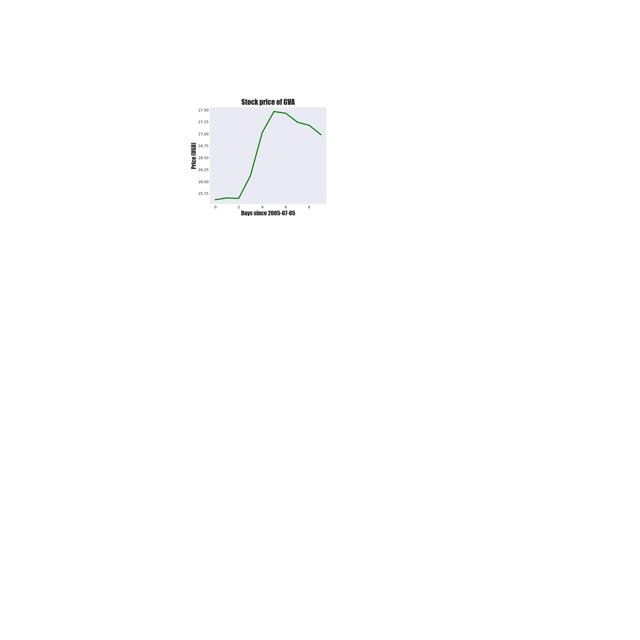Graph: (182, 92, 350, 218)
